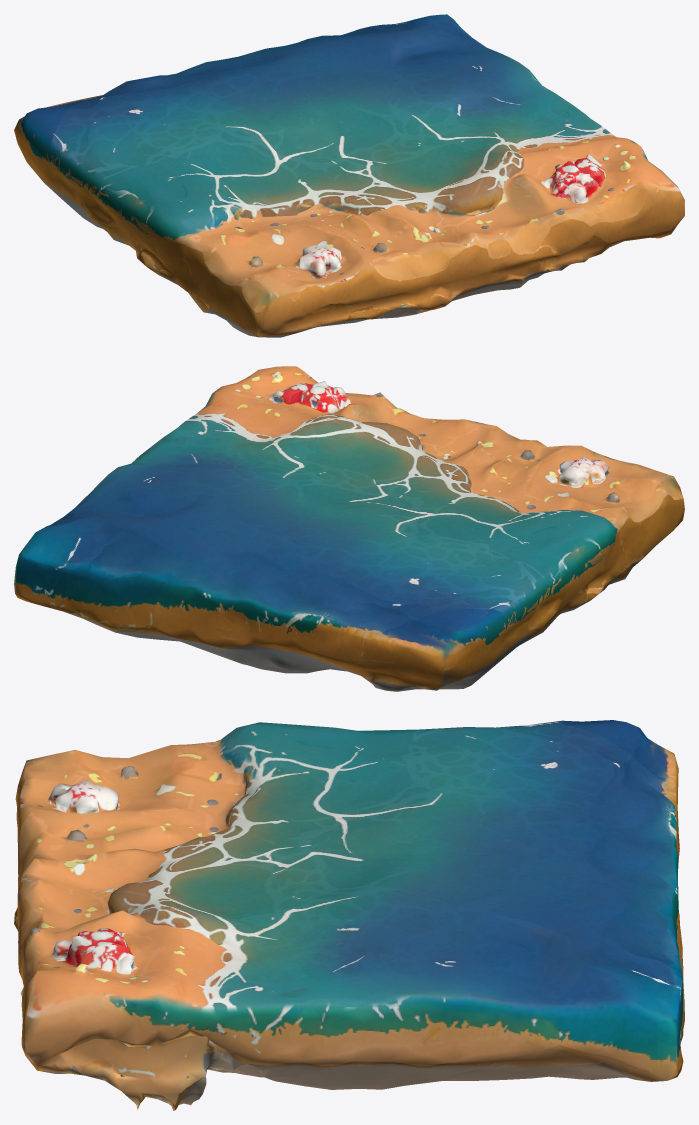
Rendered from Summer_ShoreTile.fbx.
The picture shows the model from 3 angles, top to bottom: view 1: azimuth 30°, elevation 25°; view 2: azimuth 150°, elevation 25°; view 3: azimuth 270°, elevation 25°; orthographic projection. The views are drawn at different scales.
Parts seen in each view (by area): view 1: Summer_ShoreTile; view 2: Summer_ShoreTile; view 3: Summer_ShoreTile.
Part boxes in pixels (x1,y1,x2,y2): Summer_ShoreTile: (14, 14, 684, 337); Summer_ShoreTile: (14, 366, 684, 691); Summer_ShoreTile: (14, 720, 684, 1110).
Bounding box in the file's own units: 0.9948 × 0.2998 × 0.9907.
1 material, 1 textured.
